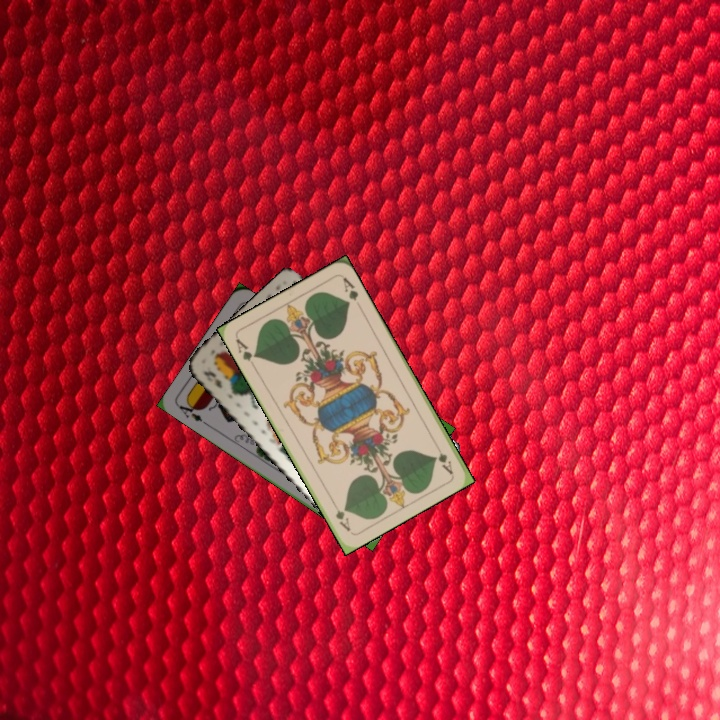EA: (174, 397, 211, 428)
EK: (200, 366, 225, 391)
GA: (430, 438, 455, 476), (232, 334, 259, 364)
